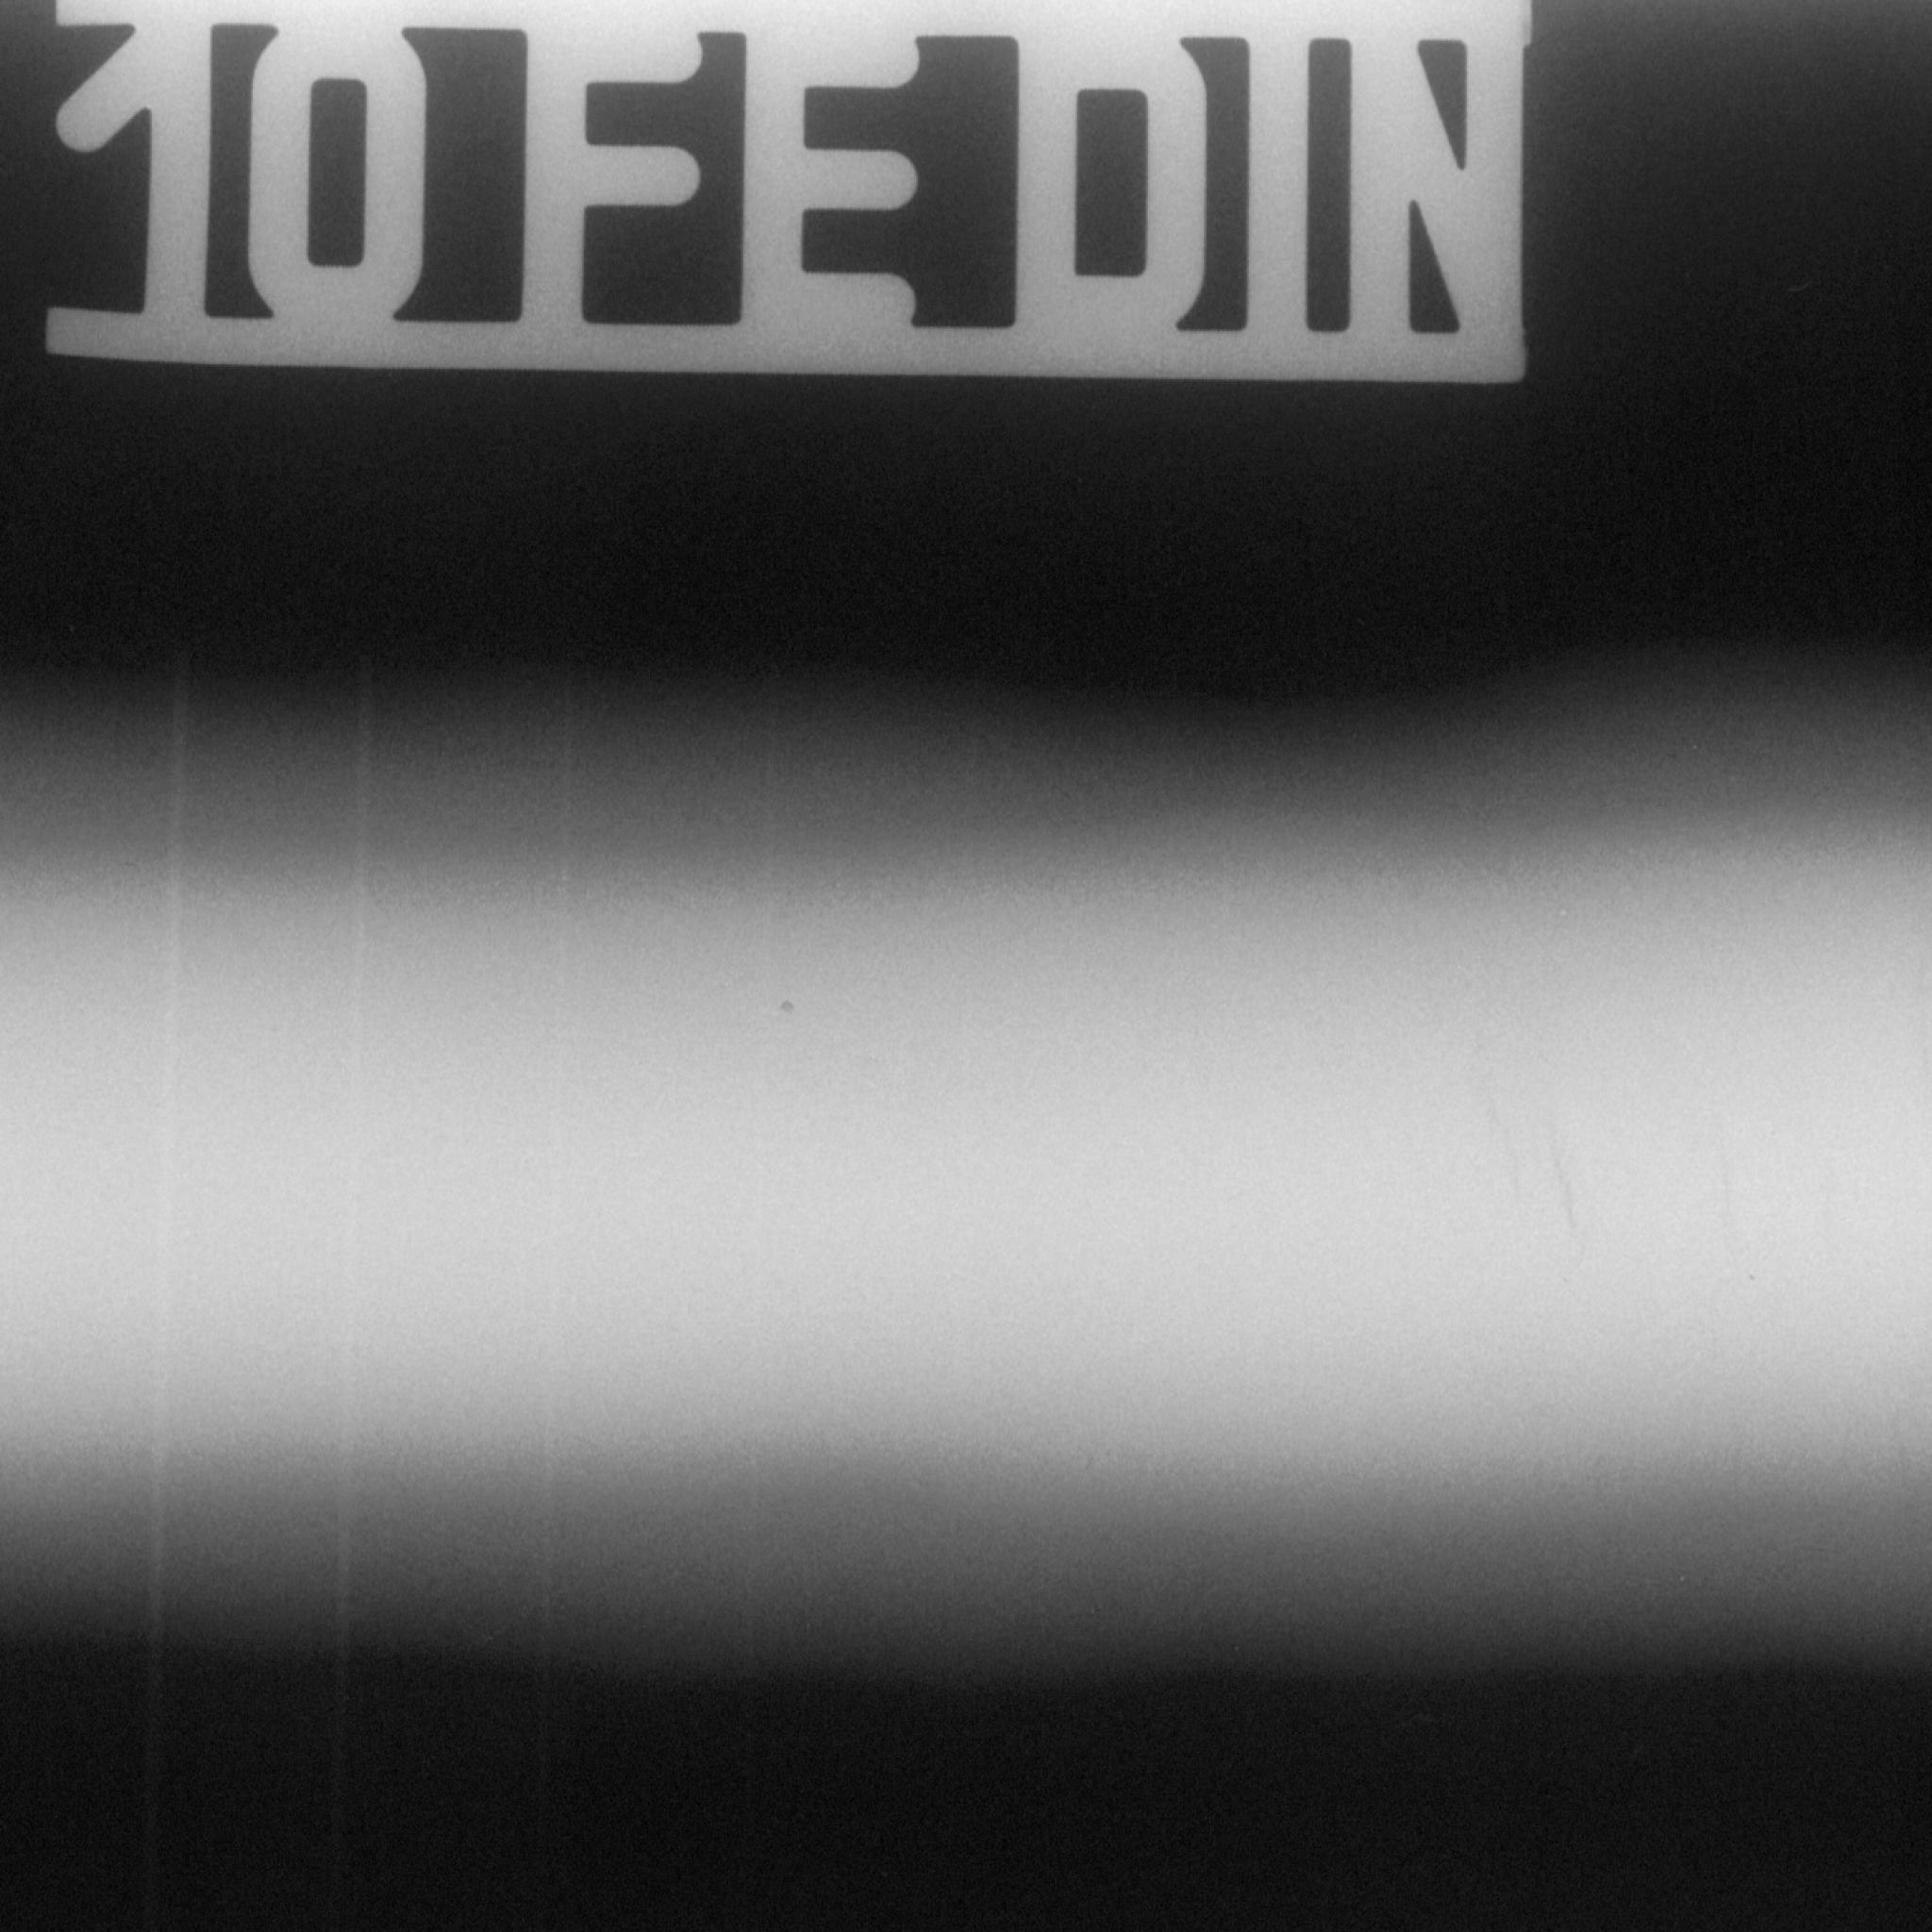PO: (760, 975, 819, 1034)
Solda Ruim: (1348, 1029, 1904, 1315)
